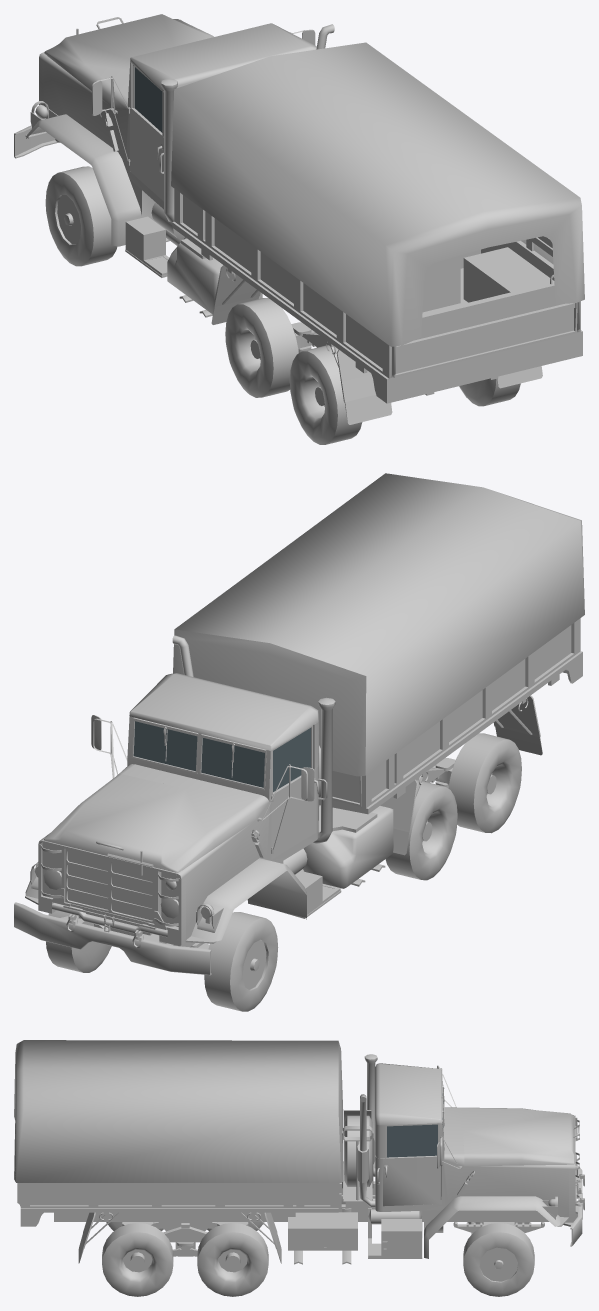
3 renders of one model, top to bottom at view 1: azimuth 30°, elevation 25°; view 2: azimuth 150°, elevation 25°; view 3: azimuth 270°, elevation 25°, orthographic. The views are drawn at different scales.
Visible parts, largest first — view 1: back_up, back, inside, under, wheel_LB00, wheel_LF, wheel_LB01, door_L, glass_L, wheel_RB01; view 2: back_up, inside, back, under, wheel_LB01, wheel_LF, glass, wheel_LB00, door_L, wheel_RF, glass_L; view 3: back_up, inside, under, back, wheel_RB00, wheel_RF, wheel_RB01, door_R, glass_R, wheel.
Part boxes in pixels (<box>): back_up: <box>171,42,584,346</box>; back: <box>172,189,582,424</box>; inside: <box>14,14,334,246</box>; under: <box>55,139,498,395</box>; wheel_LB00: <box>225,298,298,397</box>; wheel_LF: <box>45,166,117,266</box>; wheel_LB01: <box>289,345,362,444</box>; door_L: <box>130,64,163,201</box>; glass_L: <box>134,67,162,132</box>; wheel_RB01: <box>459,378,520,406</box>; back_up: <box>173,473,584,776</box>; inside: <box>14,635,335,975</box>; back: <box>319,618,582,855</box>; under: <box>60,758,455,949</box>; wheel_LB01: <box>448,733,521,833</box>; wheel_LF: <box>204,912,278,1011</box>; glass: <box>133,721,264,787</box>; wheel_LB00: <box>385,780,457,880</box>; door_L: <box>271,725,318,859</box>; wheel_RF: <box>46,910,111,972</box>; glass_L: <box>273,728,310,791</box>; back_up: <box>14,1040,343,1182</box>; inside: <box>342,1054,584,1258</box>; under: <box>54,1161,578,1264</box>; back: <box>17,1183,339,1263</box>; wheel_RB00: <box>197,1223,268,1296</box>; wheel_RF: <box>463,1223,534,1296</box>; wheel_RB01: <box>102,1223,173,1296</box>; door_R: <box>383,1123,441,1206</box>; glass_R: <box>387,1124,437,1157</box>; wheel: <box>344,1115,375,1186</box>.
Bounding box in the file's own units: 302 × 343 × 907.
